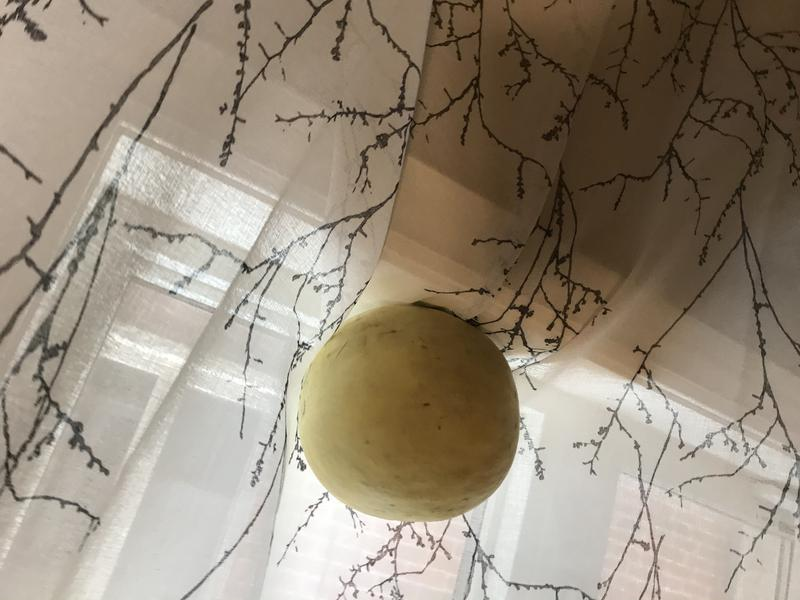honeydew: (288, 296, 522, 527)
